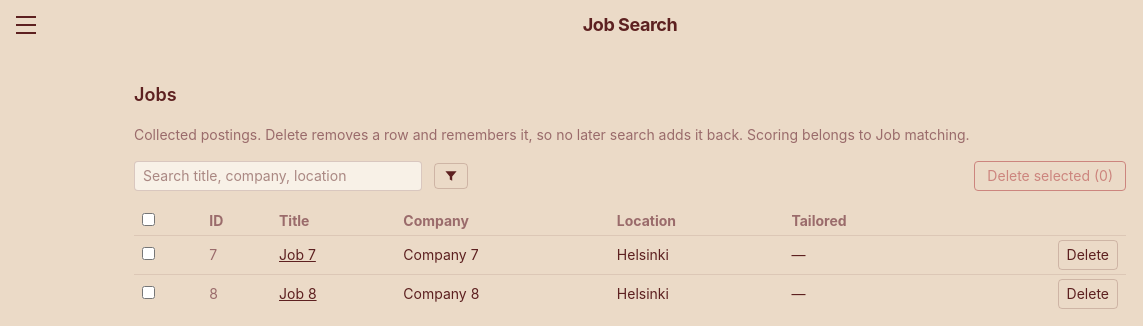
Test case: frontend smoke › jobs page searches by word and bulk-deletes only the visible selection
Later steps or results of the test are not shown.
Expected: the link "Job 7" is shown, [279,246,316,263]
Click the checkbox named "Select all jobs" at (148, 220), box [142,213,155,226]
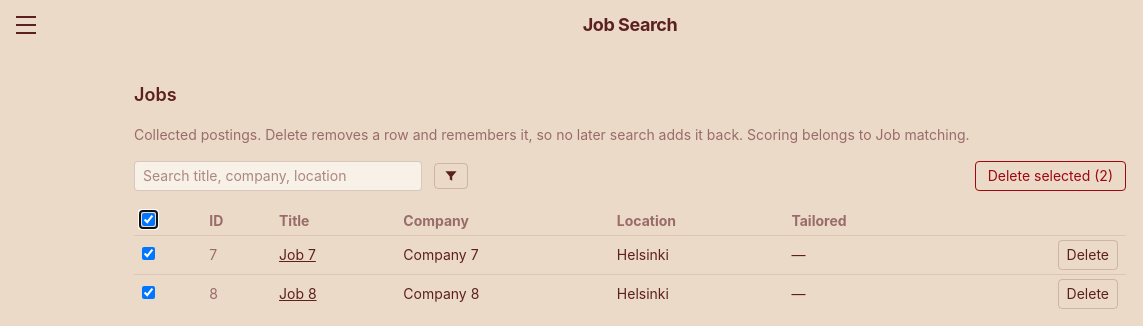
Type "Job 7" into the search field labelled "Search" at (278, 176), box [134,161,422,191]
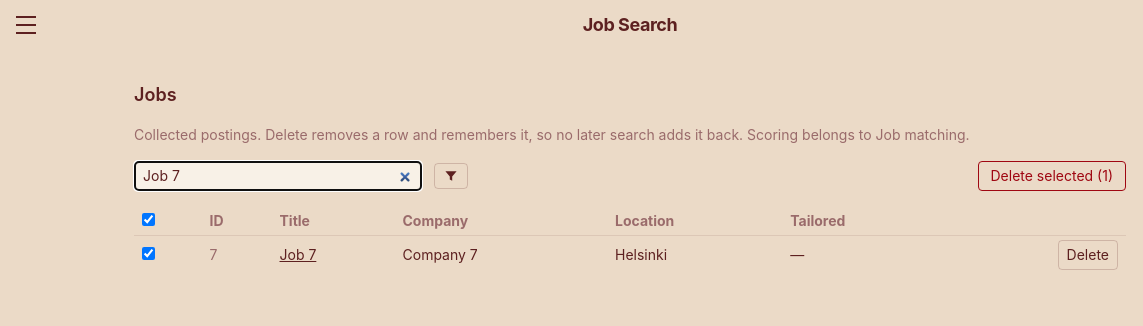
Expected: the link "Job 8" is gone
